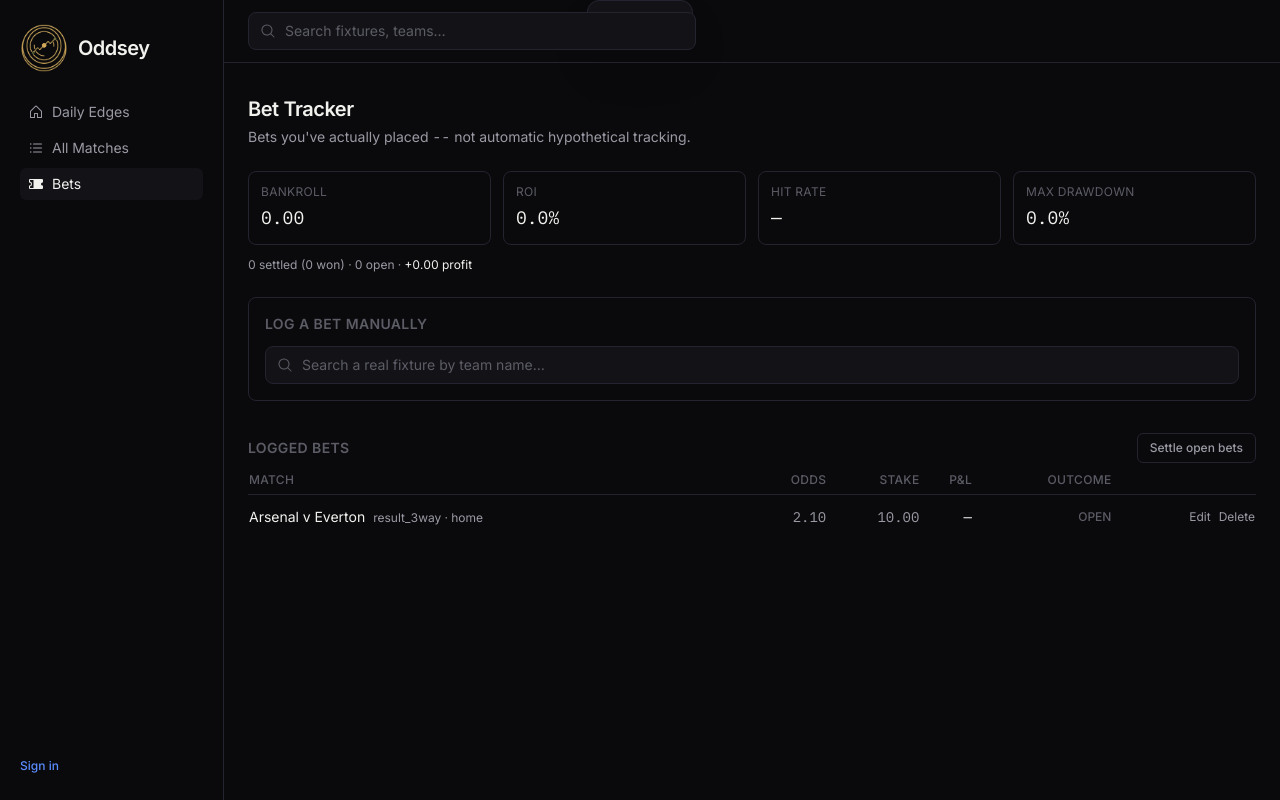
Test: BetTrackerPage lets a user delete their own logged bet (W215) › shows a two-step confirm, and removes the row on confirm
The width and height of the screenshot is (1280, 800).
Expected: the text "Arsenal v Everton" is shown, left=249, top=508, right=483, bottom=525
Click the button "Delete". click: (1237, 517)
box: left=1219, top=509, right=1255, bottom=525
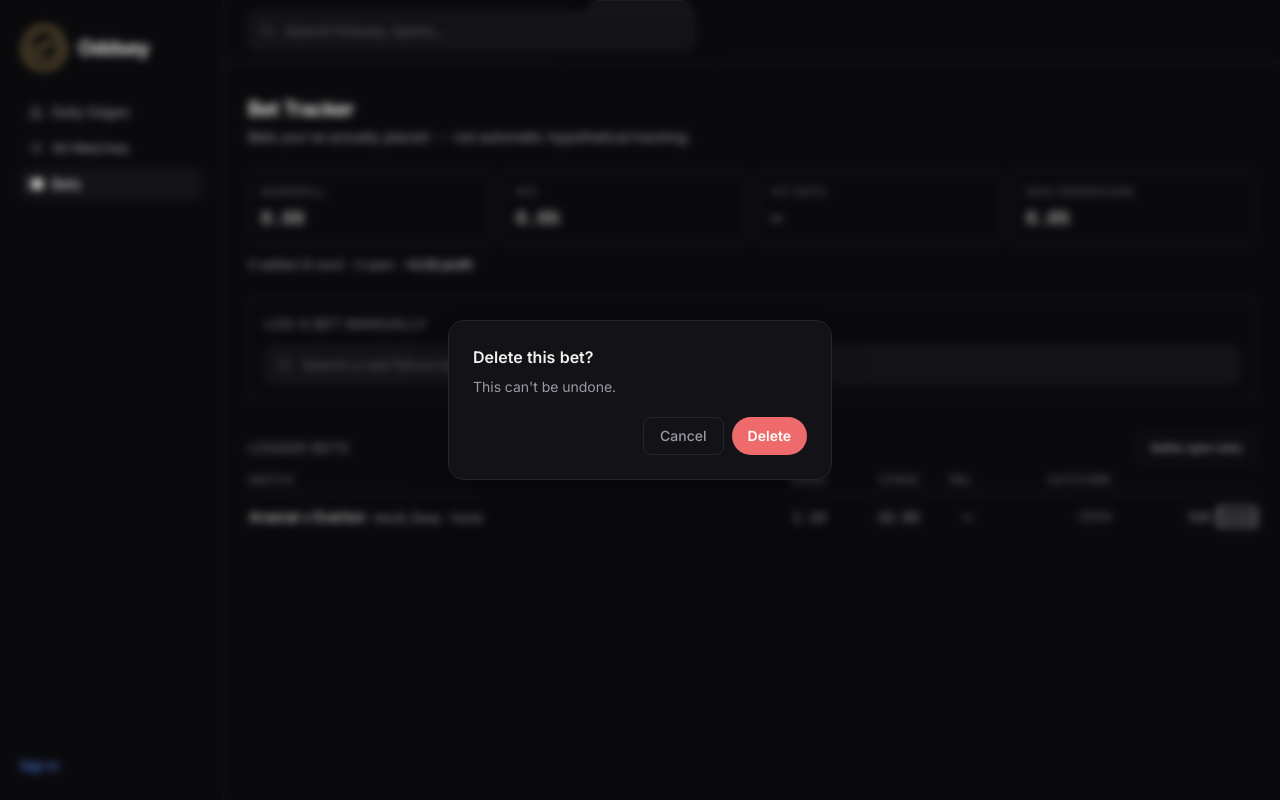
Expected: the heading "Delete this bet?" is shown, left=473, top=347, right=594, bottom=367
Click the button with aria-label "confirm delete". click: (769, 436)
box: left=732, top=417, right=807, bottom=455
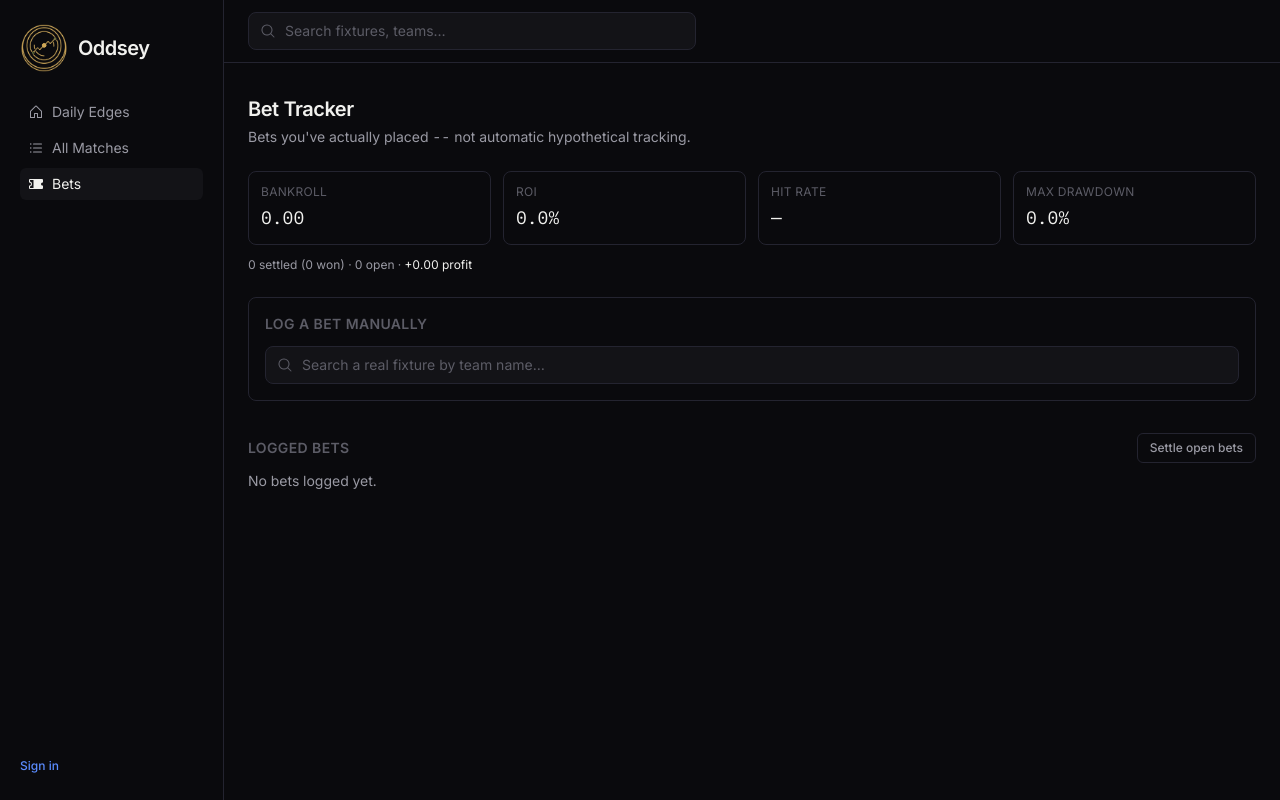
Expected: the text "Arsenal v Everton" is gone
